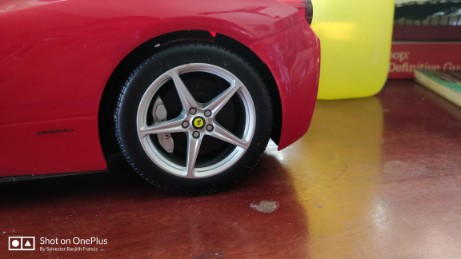aligned_wheel: (94, 24, 293, 199)
